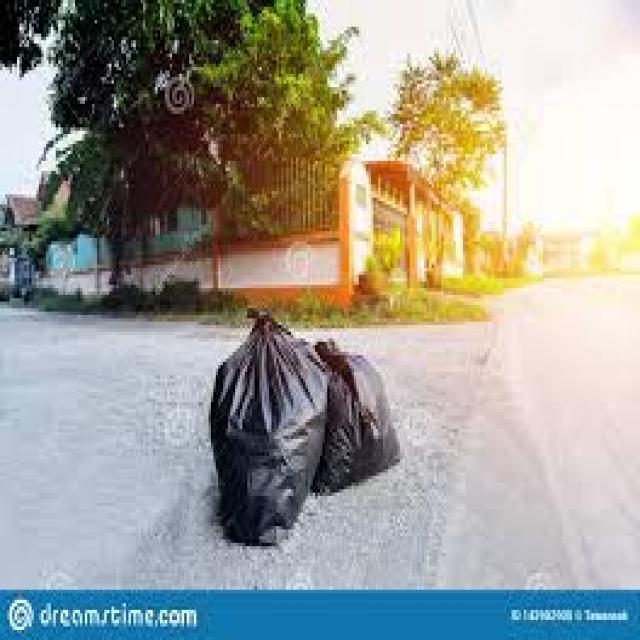plastic_bag: (217, 313, 333, 517), (309, 343, 408, 480)
